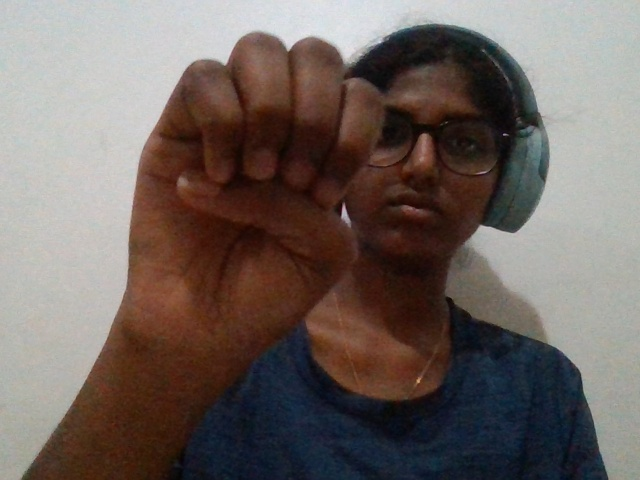E: (100, 23, 397, 480)
